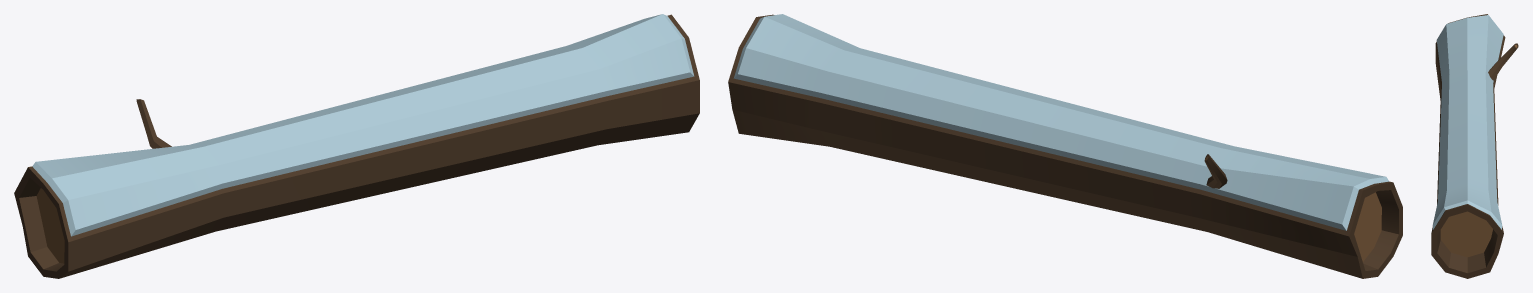
Rendered from Geo_FallenLog.fbx.
3 renders of one model, left to right at view 1: azimuth 30°, elevation 25°; view 2: azimuth 150°, elevation 25°; view 3: azimuth 270°, elevation 25°, orthographic. The views are drawn at different scales.
Visible parts, largest first — view 1: FallenLog_Mesh; view 2: FallenLog_Mesh; view 3: FallenLog_Mesh.
Part boxes in pixels (left/top/right/bottom): FallenLog_Mesh: left=14, top=14, right=699, bottom=278; FallenLog_Mesh: left=728, top=14, right=1402, bottom=278; FallenLog_Mesh: left=1431, top=14, right=1518, bottom=278.
Bounding box in the file's own units: 434 × 81.95 × 81.08.
